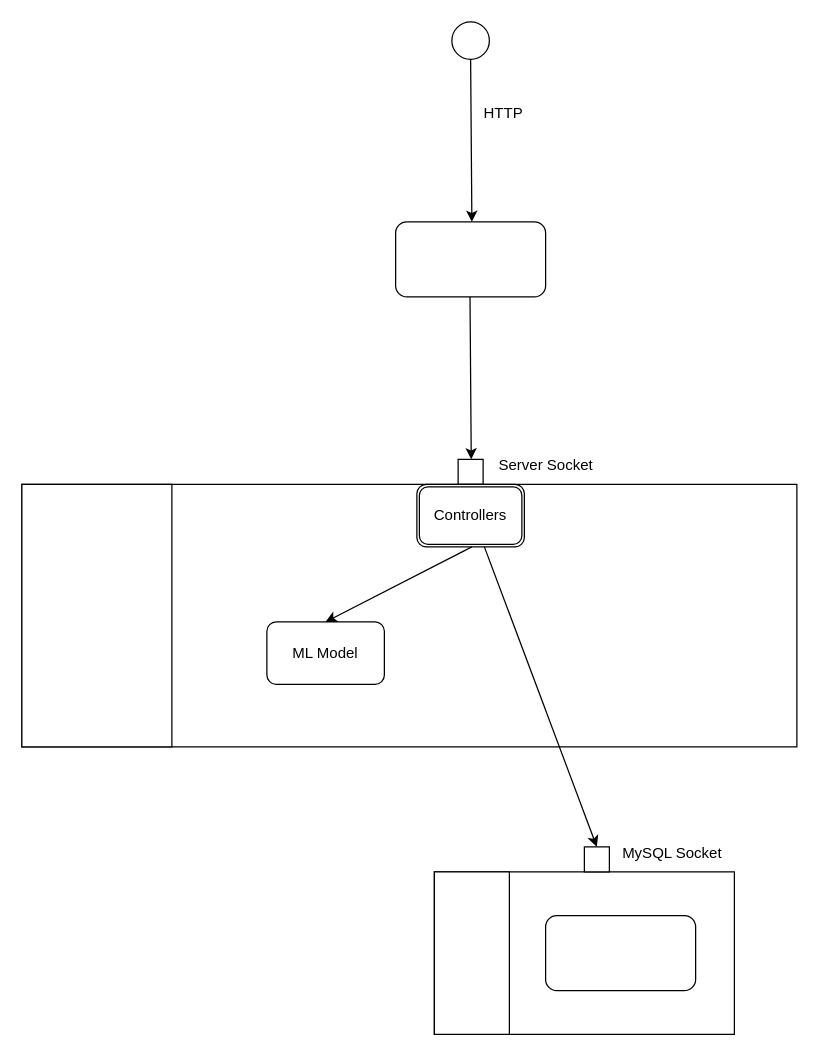
This 819x1056 diagram has some shape labels left out. Here are the shapes that lost their labels. From the top down, the box of each, then its label:
(394, 221, 546, 297): Apache
(544, 914, 696, 991): Application Data Models
